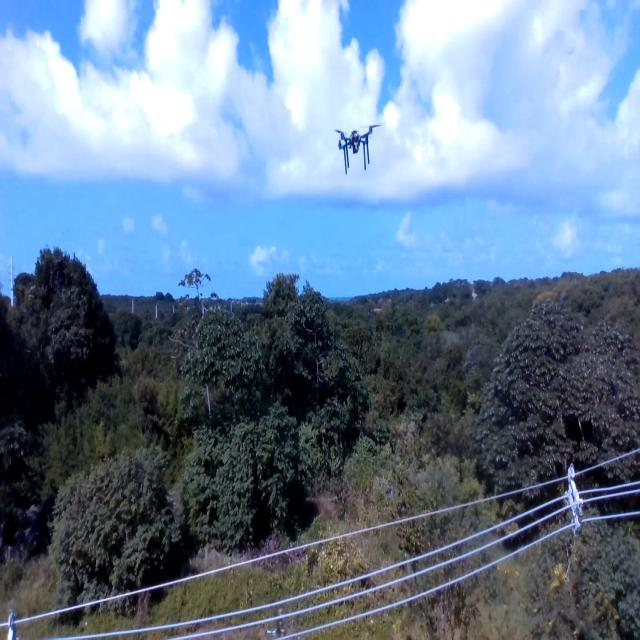-uav-: (324, 117, 381, 182)
